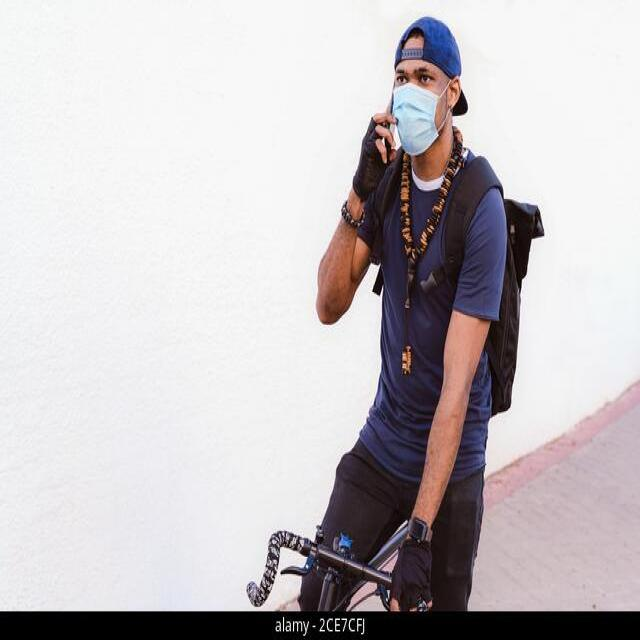Using mobile: (339, 11, 495, 178)
